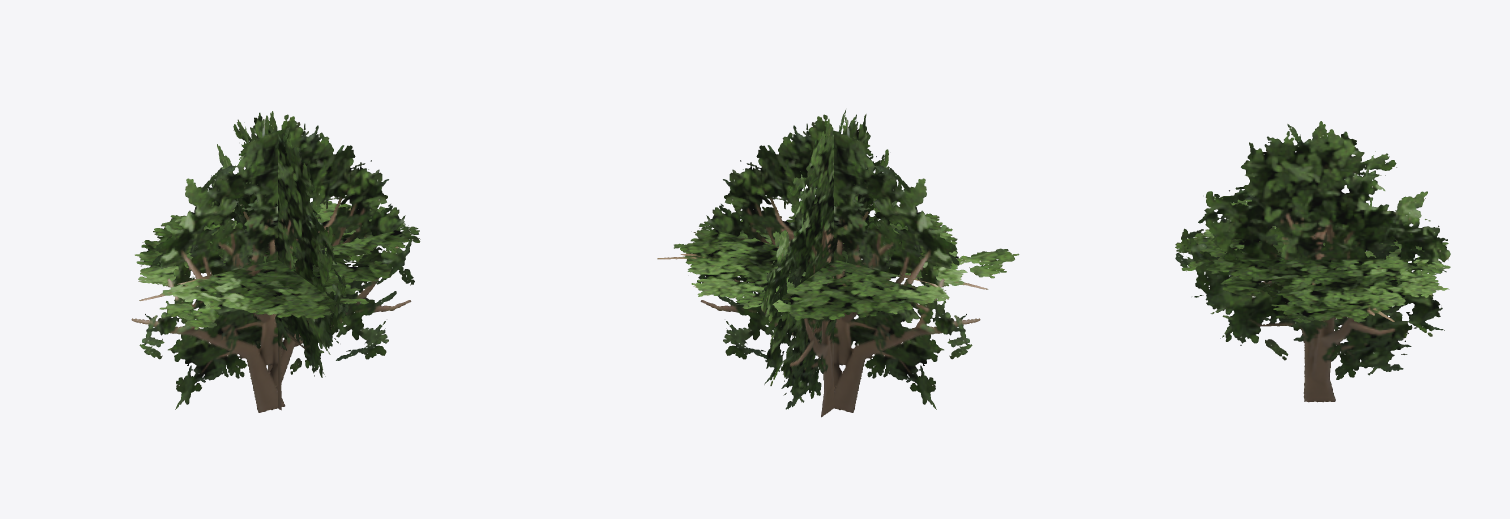
File: far.glb
The picture shows the model from 3 angles, left to right: view 1: azimuth 30°, elevation 25°; view 2: azimuth 150°, elevation 25°; view 3: azimuth 270°, elevation 25°; orthographic projection. The views are drawn at different scales.
Visible parts, largest first — view 1: far; view 2: far; view 3: far.
Boxes of the visible parts, box(x1,y1,x2,y2) form: far: box(131, 111, 420, 412); far: box(657, 110, 1019, 417); far: box(1175, 121, 1450, 402).
Bounding box in the file's own units: 25.8 × 25.8 × 25.8.
2 materials, 2 textured.
